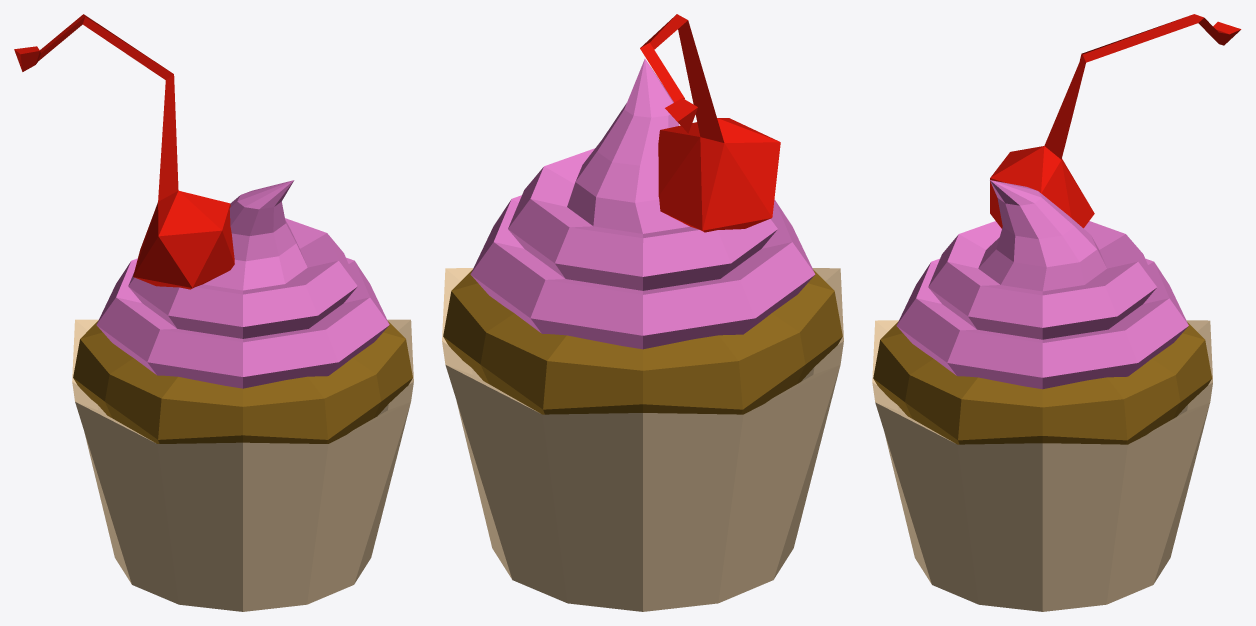
The model's file is Cupcake.fbx.
3 views of the same model, side by side, from view 1: azimuth 30°, elevation 25°; view 2: azimuth 150°, elevation 25°; view 3: azimuth 270°, elevation 25° (orthographic). The views are drawn at different scales.
Parts seen in each view (by area): view 1: Cube; view 2: Cube; view 3: Cube.
Boxes of the visible parts, x1,y1,x2,y2 form: Cube: (14, 14, 413, 611); Cube: (442, 14, 843, 611); Cube: (872, 14, 1241, 611).
Size of the model in its own units: 303 by 435 by 289.
